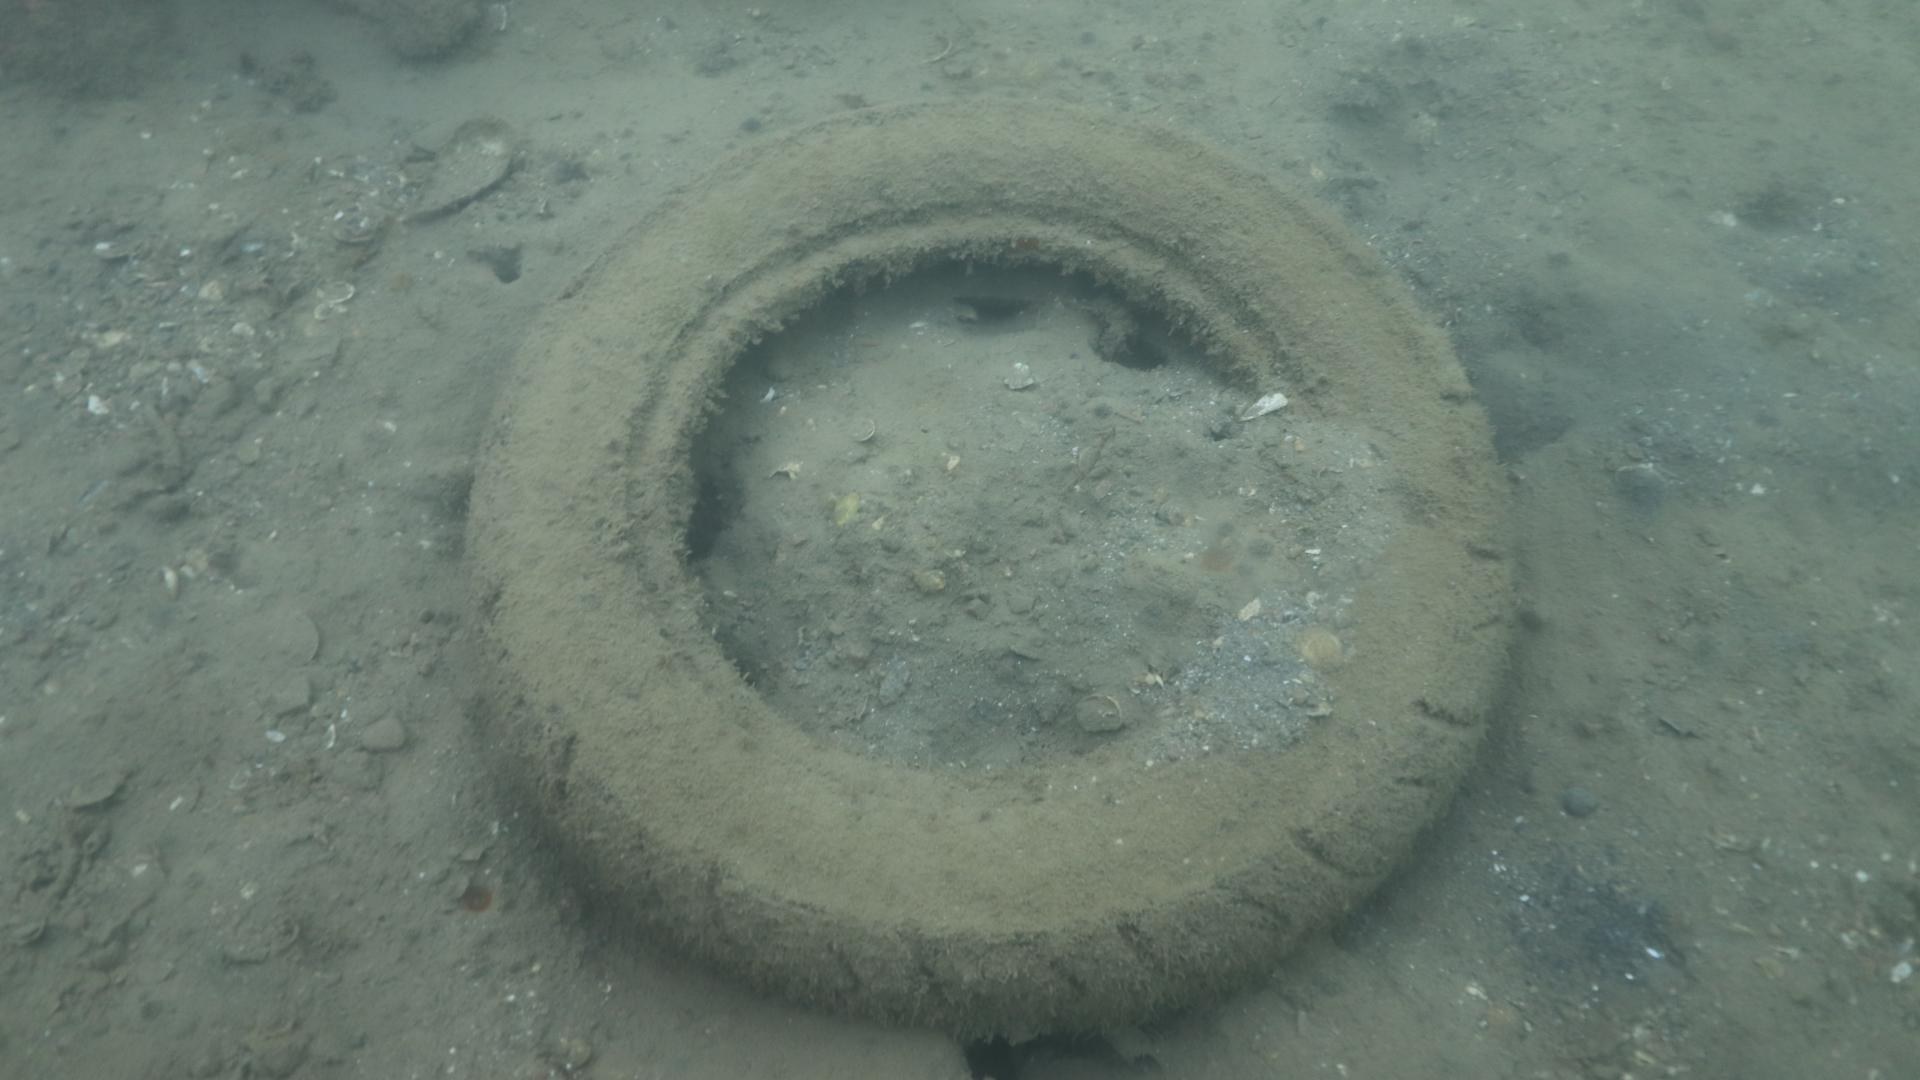tire: (458, 92, 1520, 1040)
